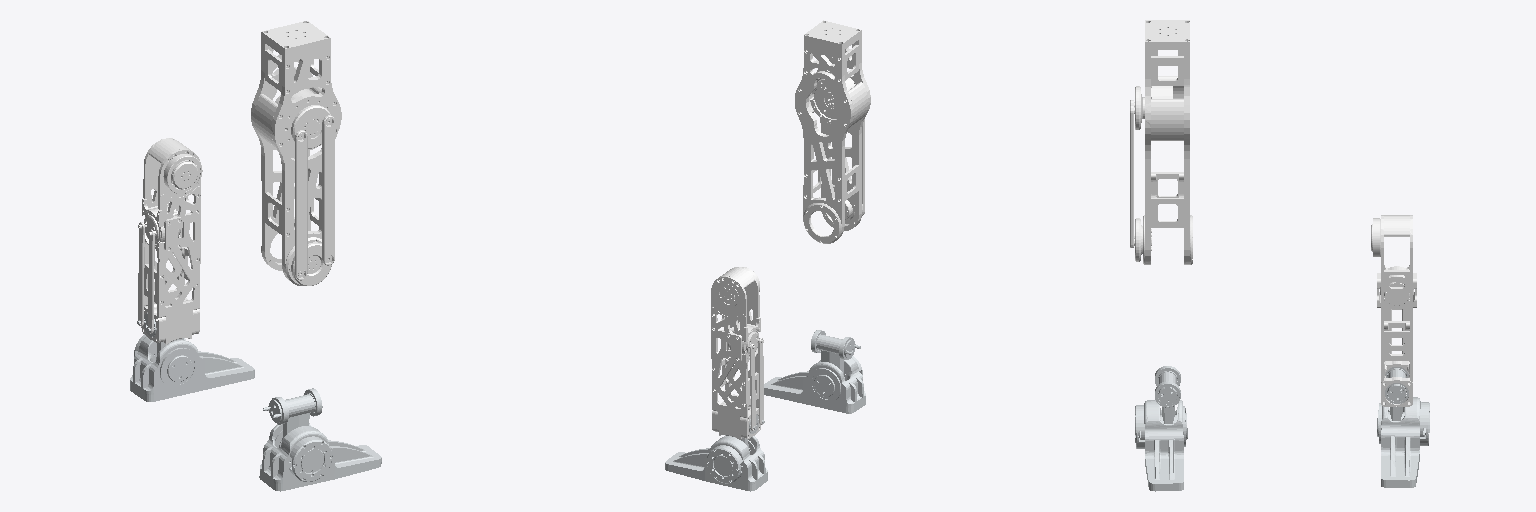
The robot description file, URDF, robot "leg_robot_5":
<?xml version="1.0" encoding="utf-8"?>
<!-- This URDF was automatically created by SolidWorks to URDF Exporter! Originally created by [author] ([email redacted]) 
     Commit Version: 1.6.0-4-g7f85cfe  Build Version: 1.6.7995.38578
     For more information, please see http://wiki.ros.org/sw_urdf_exporter -->
<robot
  name="leg_robot_5">
  <link
    name="base_link">
    <inertial>
      <origin
        xyz="-1.7111658793886E-05 1.205378852287E-11 -0.00218289060647758"
        rpy="0 0 0" />
      <mass
        value="5.17864305278156" />
      <inertia
        ixx="0.00897464945069349"
        ixy="3.11948256520947E-07"
        ixz="2.59962630411938E-06"
        iyy="0.0107926349860147"
        iyz="-2.23204935742281E-06"
        izz="0.00959216631493693" />
    </inertial>
    <visual>
      <origin
        xyz="0 0 0"
        rpy="0 0 0" />
      <geometry>
        <mesh
          filename="../meshes/base_link.STL" />
      </geometry>
      <material
        name="">
        <color
          rgba="0.898039215686275 0.917647058823529 0.929411764705882 1" />
      </material>
    </visual>
    <collision>
      <origin
        xyz="0 0 0"
        rpy="0 0 0" />
      <geometry>
        <mesh
          filename="../meshes/base_link.STL" />
      </geometry>
    </collision>
  </link>
  <link
    name="left_Link1">
    <inertial>
      <origin
        xyz="0.0275091353288909 0.0888516597801577 -0.000331637085429604"
        rpy="0 0 0" />
      <mass
        value="0.727577549530527" />
      <inertia
        ixx="0.00122498918662564"
        ixy="-0.000491750026175817"
        ixz="4.13668531229382E-06"
        iyy="0.000830508026284886"
        iyz="5.93512972246075E-06"
        izz="0.0015682117786616" />
    </inertial>
    <visual>
      <origin
        xyz="0 0 0"
        rpy="0 0 0" />
      <geometry>
        <mesh
          filename="../meshes/left_Link1.STL" />
      </geometry>
      <material
        name="">
        <color
          rgba="0.898039215686275 0.917647058823529 0.929411764705882 1" />
      </material>
    </visual>
    <collision>
      <origin
        xyz="0 0 0"
        rpy="0 0 0" />
      <geometry>
        <mesh
          filename="../meshes/left_Link1.STL" />
      </geometry>
    </collision>
  </link>
  <joint
    name="left_joint1"
    type="revolute">
    <origin
      xyz="0 0.041075 -0.01"
      rpy="0 0 0" />
    <parent
      link="base_link" />
    <child
      link="left_Link1" />
    <axis
      xyz="0 -1 0" />
    <limit
      lower="-0.75"
      upper="1.57"
      effort="63"
      velocity="20" />
  </joint>
  <link
    name="left_Link2">
    <inertial>
      <origin
        xyz="0.0154566353318297 -1.43784537611769E-05 -0.0783208736891662"
        rpy="0 0 0" />
      <mass
        value="4.32430013805945" />
      <inertia
        ixx="0.00656887067080621"
        ixy="-1.37579958991359E-05"
        ixz="-6.76317542146786E-05"
        iyy="0.00538825972808563"
        iyz="-2.75947609061849E-06"
        izz="0.00806090871691644" />
    </inertial>
    <visual>
      <origin
        xyz="0 0 0"
        rpy="0 0 0" />
      <geometry>
        <mesh
          filename="../meshes/left_Link2.STL" />
      </geometry>
      <material
        name="">
        <color
          rgba="0.898039215686275 0.917647058823529 0.929411764705882 1" />
      </material>
    </visual>
    <collision>
      <origin
        xyz="0 0 0"
        rpy="0 0 0" />
      <geometry>
        <mesh
          filename="../meshes/left_Link2.STL" />
      </geometry>
    </collision>
  </link>
  <joint
    name="left_joint2"
    type="revolute">
    <origin
      xyz="-0.013324 0.14063 0.00016068"
      rpy="0 0 0" />
    <parent
      link="left_Link1" />
    <child
      link="left_Link2" />
    <axis
      xyz="0.99993 0 -0.012059" />
    <limit
      lower="-0.08"
      upper="1.45"
      effort="63"
      velocity="20" />
  </joint>
  <link
    name="left_Link3">
    <inertial>
      <origin
        xyz="-0.0035198802196032 0.00757845307817639 -0.290565921090414"
        rpy="0 0 0" />
      <mass
        value="1.7395601452091" />
      <inertia
        ixx="0.0129677019357543"
        ixy="-1.76694508850142E-07"
        ixz="-0.000178850144217349"
        iyy="0.0139685276924755"
        iyz="-8.29118868668262E-06"
        izz="0.00128458026323371" />
    </inertial>
    <visual>
      <origin
        xyz="0 0 0"
        rpy="0 0 0" />
      <geometry>
        <mesh
          filename="../meshes/left_Link3.STL" />
      </geometry>
      <material
        name="">
        <color
          rgba="0.898039215686275 0.917647058823529 0.929411764705882 1" />
      </material>
    </visual>
    <collision>
      <origin
        xyz="0 0 0"
        rpy="0 0 0" />
      <geometry>
        <mesh
          filename="../meshes/left_Link3.STL" />
      </geometry>
    </collision>
  </link>
  <joint
    name="left_joint3"
    type="revolute">
    <origin
      xyz="0.012502 0 -0.076656"
      rpy="0 0 0" />
    <parent
      link="left_Link2" />
    <child
      link="left_Link3" />
    <axis
      xyz="0.012059 0 0.99993" />
    <limit
      lower="-1.05"
      upper="1.57"
      effort="35"
      velocity="20" />
  </joint>
  <link
    name="left_Link4">
    <inertial>
      <origin
        xyz="-0.00770513570574433 -0.0529038941425484 -0.104589690512844"
        rpy="0 0 0" />
      <mass
        value="1.06601204128385" />
      <inertia
        ixx="0.00457326350532047"
        ixy="5.00874598226818E-08"
        ixz="-5.70500904236107E-05"
        iyy="0.00474796651768602"
        iyz="1.03041309516963E-06"
        izz="0.000364137879139327" />
    </inertial>
    <visual>
      <origin
        xyz="0 0 0"
        rpy="0 0 0" />
      <geometry>
        <mesh
          filename="../meshes/left_Link4.STL" />
      </geometry>
      <material
        name="">
        <color
          rgba="1 1 1 1" />
      </material>
    </visual>
    <collision>
      <origin
        xyz="0 0 0"
        rpy="0 0 0" />
      <geometry>
        <mesh
          filename="../meshes/left_Link4.STL" />
      </geometry>
    </collision>
  </link>
  <joint
    name="left_joint4"
    type="revolute">
    <origin
      xyz="-0.0058122 0.049 -0.48196"
      rpy="0 0 0" />
    <parent
      link="left_Link3" />
    <child
      link="left_Link4" />
    <axis
      xyz="0 -1 0" />
    <limit
      lower="-2"
      upper="0"
      effort="30.6"
      velocity="15" />
  </joint>
  <link
    name="left_Link5">
    <inertial>
      <origin
        xyz="-0.0378555805119908 -0.000592433131589631 -0.0290573966366943"
        rpy="0 0 0" />
      <mass
        value="0.277379506946843" />
      <inertia
        ixx="0.000255945358686005"
        ixy="-5.54331538205489E-08"
        ixz="-2.39352445938223E-06"
        iyy="0.00028594724357096"
        iyz="-4.59550408161464E-06"
        izz="5.74969081070707E-05" />
    </inertial>
    <visual>
      <origin
        xyz="0 0 0"
        rpy="0 0 0" />
      <geometry>
        <mesh
          filename="../meshes/left_Link5.STL" />
      </geometry>
      <material
        name="">
        <color
          rgba="0.898039215686275 0.917647058823529 0.929411764705882 1" />
      </material>
    </visual>
    <collision>
      <origin
        xyz="0 0 0"
        rpy="0 0 0" />
      <geometry>
        <mesh
          filename="../meshes/left_Link5.STL" />
      </geometry>
    </collision>
  </link>
  <joint
    name="left_joint5"
    type="revolute">
    <origin
      xyz="0.032898 -0.049 -0.25742"
      rpy="0 0 0" />
    <parent
      link="left_Link4" />
    <child
      link="left_Link5" />
    <axis
      xyz="0.99993 0 -0.012059" />
    <limit
      lower="-0.5"
      upper="0.5"
      effort="4"
      velocity="10" />
  </joint>
  <link
    name="left_Link6">
    <inertial>
      <origin
        xyz="0.0123517280375918 -0.044017049704276 -0.0100139177799287"
        rpy="0 0 0" />
      <mass
        value="1.25173443245808" />
      <inertia
        ixx="0.000702807277471897"
        ixy="4.34013803938795E-05"
        ixz="0.000175638098260002"
        iyy="0.00221353772030447"
        iyz="-4.33529658260178E-05"
        izz="0.00198937628665221" />
    </inertial>
    <visual>
      <origin
        xyz="0 0 0"
        rpy="0 0 0" />
      <geometry>
        <mesh
          filename="../meshes/left_Link6.STL" />
      </geometry>
      <material
        name="">
        <color
          rgba="0.898039215686275 0.917647058823529 0.929411764705882 1" />
      </material>
    </visual>
    <collision>
      <origin
        xyz="0 0 0"
        rpy="0 0 0" />
      <geometry>
        <mesh
          filename="../meshes/left_Link6.STL" />
      </geometry>
    </collision>
  </link>
  <joint
    name="left_joint6"
    type="revolute">
    <origin
      xyz="-0.036854 0.050385 -0.070586"
      rpy="0 0 0" />
    <parent
      link="left_Link5" />
    <child
      link="left_Link6" />
    <axis
      xyz="-0.00024202 0.9998 -0.020069" />
    <limit
      lower="-0.6"
      upper="1.3"
      effort="4"
      velocity="10" />
  </joint>
  <link
    name="right_Link1">
    <inertial>
      <origin
        xyz="0.0275111551333931 -0.0888516568342696 5.694329605066E-06"
        rpy="0 0 0" />
      <mass
        value="0.727582386769025" />
      <inertia
        ixx="0.00122493877683347"
        ixy="0.000491783671898881"
        ixz="-6.99539511714679E-08"
        iyy="0.000830509950734823"
        iyz="1.03754292095641E-07"
        izz="0.00156825672134868" />
    </inertial>
    <visual>
      <origin
        xyz="0 0 0"
        rpy="0 0 0" />
      <geometry>
        <mesh
          filename="../meshes/right_Link1.STL" />
      </geometry>
      <material
        name="">
        <color
          rgba="0.898039215686275 0.917647058823529 0.929411764705882 1" />
      </material>
    </visual>
    <collision>
      <origin
        xyz="0 0 0"
        rpy="0 0 0" />
      <geometry>
        <mesh
          filename="../meshes/right_Link1.STL" />
      </geometry>
    </collision>
  </link>
  <joint
    name="right_joint1"
    type="revolute">
    <origin
      xyz="0 -0.041075 -0.01"
      rpy="0 0 0" />
    <parent
      link="base_link" />
    <child
      link="right_Link1" />
    <axis
      xyz="0 1 0" />
    <limit
      lower="-1.57"
      upper="0.75"
      effort="63"
      velocity="20" />
  </joint>
  <link
    name="right_Link2">
    <inertial>
      <origin
        xyz="0.0164148082704096 -1.6643452372983E-05 -0.0781264070751896"
        rpy="0 0 0" />
      <mass
        value="4.32429982010498" />
      <inertia
        ixx="0.00656963697838032"
        ixy="-1.23970905091491E-05"
        ixz="-8.58975862412141E-05"
        iyy="0.00538859650837384"
        iyz="-3.97010562447125E-06"
        izz="0.00805980410002603" />
    </inertial>
    <visual>
      <origin
        xyz="0 0 0"
        rpy="0 0 0" />
      <geometry>
        <mesh
          filename="../meshes/right_Link2.STL" />
      </geometry>
      <material
        name="">
        <color
          rgba="0.898039215686275 0.917647058823529 0.929411764705882 1" />
      </material>
    </visual>
    <collision>
      <origin
        xyz="0 0 0"
        rpy="0 0 0" />
      <geometry>
        <mesh
          filename="../meshes/right_Link2.STL" />
      </geometry>
    </collision>
  </link>
  <joint
    name="right_joint2"
    type="revolute">
    <origin
      xyz="-0.013325 -0.14063 0"
      rpy="0 0 0" />
    <parent
      link="right_Link1" />
    <child
      link="right_Link2" />
    <axis
      xyz="1 0 0.00020514" />
    <limit
      lower="-1.45"
      upper="0.08"
      effort="6"
      velocity="20" />
  </joint>
  <link
    name="right_Link3">
    <inertial>
      <origin
        xyz="2.91636348348084E-05 -0.00757845307987584 -0.290593198689922"
        rpy="0 0 0" />
      <mass
        value="1.73956014602677" />
      <inertia
        ixx="0.0129712907773977"
        ixy="-5.78962497967193E-08"
        ixz="-3.68349171843704E-05"
        iyy="0.013968693249696"
        iyz="8.23856486133444E-06"
        izz="0.00128115697898246" />
    </inertial>
    <visual>
      <origin
        xyz="0 0 0"
        rpy="0 0 0" />
      <geometry>
        <mesh
          filename="../meshes/right_Link3.STL" />
      </geometry>
      <material
        name="">
        <color
          rgba="1 1 1 1" />
      </material>
    </visual>
    <collision>
      <origin
        xyz="0 0 0"
        rpy="0 0 0" />
      <geometry>
        <mesh
          filename="../meshes/right_Link3.STL" />
      </geometry>
    </collision>
  </link>
  <joint
    name="right_joint3"
    type="revolute">
    <origin
      xyz="0.013441 0 -0.076497"
      rpy="0 0 0" />
    <parent
      link="right_Link2" />
    <child
      link="right_Link3" />
    <axis
      xyz="-0.00020514 0 1" />
    <limit
      lower="-1.57"
      upper="1.05"
      effort="35"
      velocity="20" />
  </joint>
  <link
    name="right_Link4">
    <inertial>
      <origin
        xyz="-0.00715365527099464 0.049678225821265 -0.116603775319741"
        rpy="0 0 0" />
      <mass
        value="0.956969148524008" />
      <inertia
        ixx="0.00453508878823655"
        ixy="3.74458867448996E-08"
        ixz="-5.41738815640906E-06"
        iyy="0.0046725805883325"
        iyz="1.03095034078231E-06"
        izz="0.000324431105343351" />
    </inertial>
    <visual>
      <origin
        xyz="0 0 0"
        rpy="0 0 0" />
      <geometry>
        <mesh
          filename="../meshes/right_Link4.STL" />
      </geometry>
      <material
        name="">
        <color
          rgba="1 1 1 1" />
      </material>
    </visual>
    <collision>
      <origin
        xyz="0 0 0"
        rpy="0 0 0" />
      <geometry>
        <mesh
          filename="../meshes/right_Link4.STL" />
      </geometry>
    </collision>
  </link>
  <joint
    name="right_joint4"
    type="revolute">
    <origin
      xyz="9.888E-05 -0.049 -0.482"
      rpy="0 0 0" />
    <parent
      link="right_Link3" />
    <child
      link="right_Link4" />
    <axis
      xyz="0 1 0" />
    <limit
      lower="0"
      upper="2"
      effort="30.6"
      velocity="15" />
  </joint>
  <link
    name="right_Link5">
    <inertial>
      <origin
        xyz="-0.0374963826200306 0.000649830067335294 -0.0295182519400791"
        rpy="0 0 0" />
      <mass
        value="0.277379505508691" />
      <inertia
        ixx="0.000255974215371211"
        ixy="-1.04707483533278E-09"
        ixz="4.07186387351988E-08"
        iyy="0.000285928501619601"
        iyz="5.0408928937266E-06"
        izz="5.74867951322018E-05" />
    </inertial>
    <visual>
      <origin
        xyz="0 0 0"
        rpy="0 0 0" />
      <geometry>
        <mesh
          filename="../meshes/right_Link5.STL" />
      </geometry>
      <material
        name="">
        <color
          rgba="0.898039215686275 0.917647058823529 0.929411764705882 1" />
      </material>
    </visual>
    <collision>
      <origin
        xyz="0 0 0"
        rpy="0 0 0" />
      <geometry>
        <mesh
          filename="../meshes/right_Link5.STL" />
      </geometry>
    </collision>
  </link>
  <joint
    name="right_joint5"
    type="revolute">
    <origin
      xyz="0.036053 0.049 -0.25699"
      rpy="0 0 0" />
    <parent
      link="right_Link4" />
    <child
      link="right_Link5" />
    <axis
      xyz="1 0 0.00020514" />
    <limit
      lower="-0.5"
      upper="0.5"
      effort="4"
      velocity="10" />
  </joint>
  <link
    name="right_Link6">
    <inertial>
      <origin
        xyz="0.0123640939029363 0.0442409718182375 -0.00999287132452265"
        rpy="0 0 0" />
      <mass
        value="1.25173224490839" />
      <inertia
        ixx="0.000704805135136469"
        ixy="-4.36488897262924E-05"
        ixz="0.000182611627081858"
        iyy="0.00221332728073408"
        iyz="4.40894725849787E-05"
        izz="0.00198757066080809" />
    </inertial>
    <visual>
      <origin
        xyz="0 0 0"
        rpy="0 0 0" />
      <geometry>
        <mesh
          filename="../meshes/right_Link6.STL" />
      </geometry>
      <material
        name="">
        <color
          rgba="0.898039215686275 0.917647058823529 0.929411764705882 1" />
      </material>
    </visual>
    <collision>
      <origin
        xyz="0 0 0"
        rpy="0 0 0" />
      <geometry>
        <mesh
          filename="../meshes/right_Link6.STL" />
      </geometry>
    </collision>
  </link>
  <joint
    name="right_joint6"
    type="revolute">
    <origin
      xyz="-0.035985 -0.050446 -0.071135"
      rpy="0 0 0" />
    <parent
      link="right_Link5" />
    <child
      link="right_Link6" />
    <axis
      xyz="0 -0.99976 -0.022015" />
    <limit
      lower="-1.3"
      upper="0.6"
      effort="4"
      velocity="10" />
  </joint>
</robot>

--- What the picture shows (computed from the rendered views, not written in the file) ---
Views: 3 orthographic renders of the robot side by side, from view 1: azimuth 30°, elevation 25°; view 2: azimuth 150°, elevation 25°; view 3: azimuth 270°, elevation 25°.
Robot: leg_robot_5 — 13 links, 12 joints (12 revolute); root link base_link; default pose: all joints at 0.
Visible links, largest first — view 1: right_Link3, left_Link4, right_Link6, left_Link6, right_Link5; view 2: right_Link3, left_Link4, left_Link6, right_Link6, right_Link5; view 3: right_Link3, left_Link4, right_Link6, left_Link6, right_Link5, left_Link5.
Boxes of the visible links, left/top/right/bottom form: right_Link3: left=251, top=21, right=341, bottom=285; left_Link4: left=138, top=138, right=202, bottom=344; right_Link6: left=259, top=423, right=381, bottom=491; left_Link6: left=130, top=334, right=254, bottom=401; right_Link5: left=263, top=388, right=322, bottom=444; right_Link3: left=795, top=20, right=870, bottom=243; left_Link4: left=711, top=267, right=763, bottom=439; left_Link6: left=665, top=435, right=767, bottom=491; right_Link6: left=764, top=356, right=865, bottom=413; right_Link5: left=811, top=330, right=860, bottom=379; right_Link3: left=1130, top=20, right=1192, bottom=264; left_Link4: left=1371, top=215, right=1416, bottom=406; right_Link6: left=1135, top=400, right=1187, bottom=491; left_Link6: left=1377, top=397, right=1429, bottom=487; right_Link5: left=1155, top=366, right=1180, bottom=423; left_Link5: left=1385, top=367, right=1408, bottom=420.
Size in the robot's own frame: 0.2008 by 0.4755 by 0.7419 metres.
6 mesh visuals loaded from 13 distinct referenced files (6 binary STL); not drawn: 7 (reference not matched to a file when rendering).